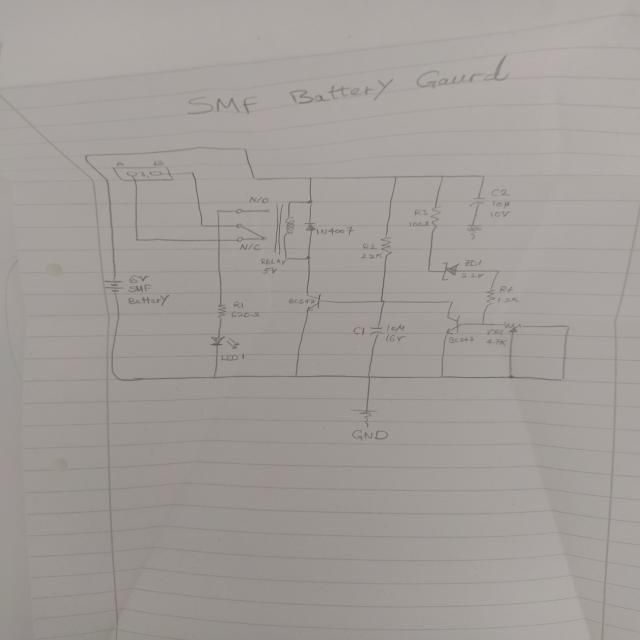capacitor: (468, 196, 487, 207), (367, 326, 385, 336)
crossover: (215, 237, 223, 242), (214, 223, 221, 228)
diode: (207, 334, 241, 348), (440, 261, 460, 281), (303, 221, 316, 231)
ground: (352, 408, 376, 424), (465, 223, 484, 240)
junction: (110, 372, 123, 382), (82, 152, 92, 160), (303, 254, 312, 261), (438, 173, 446, 180), (133, 236, 141, 243), (563, 323, 571, 330), (364, 374, 374, 379), (240, 146, 248, 152), (425, 267, 433, 273), (250, 175, 258, 181), (378, 298, 386, 304), (198, 222, 205, 228), (292, 372, 299, 378), (188, 170, 195, 176), (478, 174, 486, 179), (506, 374, 514, 379), (210, 374, 218, 379), (306, 199, 314, 204), (493, 269, 501, 274), (438, 374, 446, 379), (214, 208, 220, 214), (392, 174, 399, 179), (307, 175, 314, 180), (558, 377, 565, 382), (448, 299, 454, 303), (478, 320, 484, 324)
resistor: (429, 204, 442, 230), (378, 235, 393, 256), (502, 320, 524, 333), (484, 288, 496, 305), (214, 304, 227, 318)
source: (103, 279, 124, 293)
terminal: (125, 170, 137, 177), (149, 170, 162, 176)
text: (188, 53, 512, 116), (126, 294, 170, 306), (350, 428, 389, 441), (314, 226, 354, 236), (286, 296, 315, 305), (447, 335, 475, 344), (126, 283, 151, 293), (231, 310, 260, 318), (246, 195, 269, 205), (259, 257, 287, 265), (218, 354, 244, 362), (489, 209, 512, 218), (238, 243, 263, 251), (384, 334, 406, 343), (128, 274, 150, 283), (491, 187, 510, 197), (496, 296, 519, 304), (484, 338, 506, 346), (462, 258, 481, 267), (387, 323, 405, 332), (359, 252, 382, 259), (461, 272, 484, 279), (490, 200, 510, 208), (261, 266, 278, 275), (486, 328, 504, 336), (498, 285, 514, 294), (352, 326, 366, 336), (407, 220, 430, 226), (362, 242, 378, 250), (413, 208, 428, 216), (232, 300, 245, 308), (152, 159, 165, 166), (139, 171, 149, 178), (115, 160, 125, 167)
transistor: (300, 292, 322, 312), (444, 315, 461, 337)
